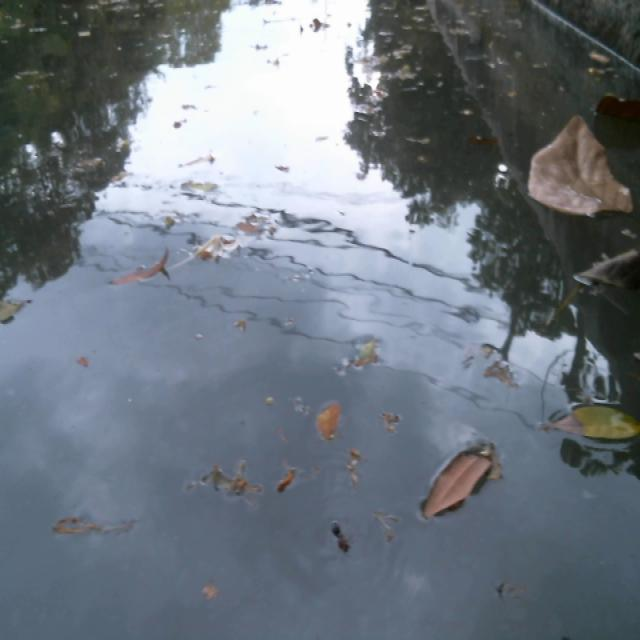Big-leaf: (522, 109, 640, 228), (570, 241, 640, 295), (597, 93, 640, 126)
Small-leaf: (427, 415, 505, 539), (548, 399, 640, 451), (109, 243, 172, 297), (315, 395, 342, 444), (0, 296, 31, 331), (588, 43, 614, 70)
